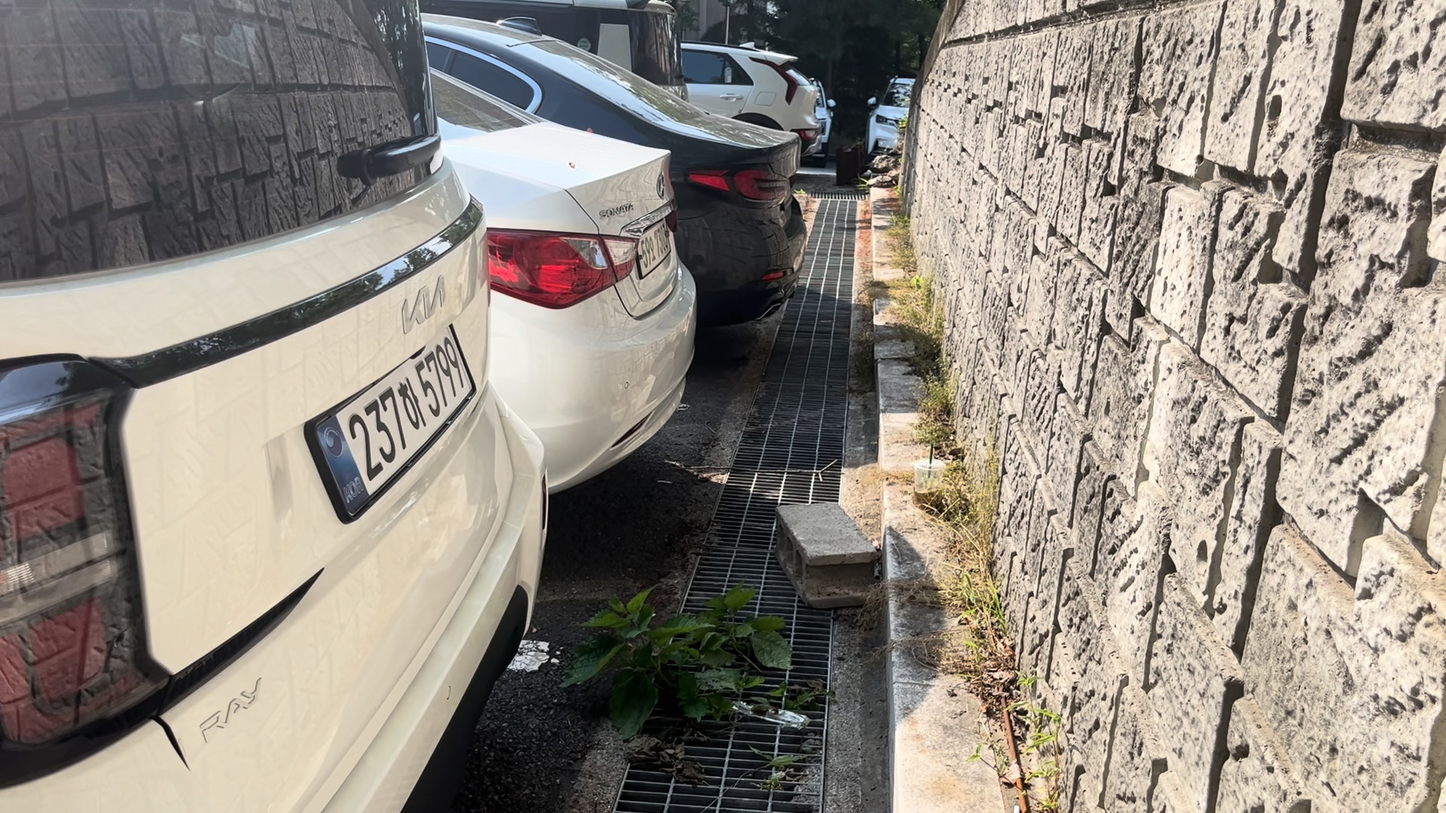car_emblem: (392, 272, 453, 344)
license_plate: (310, 327, 475, 519)
tail_light: (0, 360, 168, 749), (487, 229, 638, 308)
